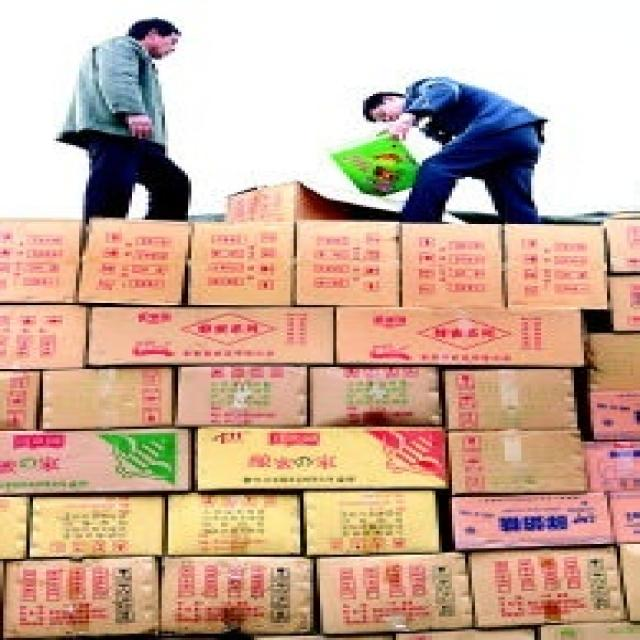box: (191, 427, 452, 493), (89, 305, 336, 367), (336, 307, 587, 367), (313, 553, 475, 636), (468, 546, 630, 629), (0, 429, 191, 497), (155, 557, 313, 638), (3, 557, 158, 638), (76, 218, 195, 307), (445, 429, 591, 495), (396, 222, 508, 307), (501, 222, 610, 309), (297, 491, 442, 555), (188, 222, 297, 307), (452, 493, 614, 550), (294, 222, 399, 307), (40, 367, 175, 431), (442, 367, 577, 431), (26, 495, 165, 557), (165, 495, 304, 557), (168, 367, 310, 427), (307, 367, 442, 427), (0, 218, 86, 305), (0, 305, 89, 371), (330, 132, 419, 196), (228, 183, 350, 224), (584, 333, 640, 390), (581, 442, 640, 493), (591, 388, 640, 442), (0, 371, 43, 431), (0, 495, 36, 561), (607, 269, 640, 333), (607, 486, 640, 546), (538, 621, 640, 640), (617, 542, 640, 625), (604, 222, 640, 275), (396, 627, 538, 640)
